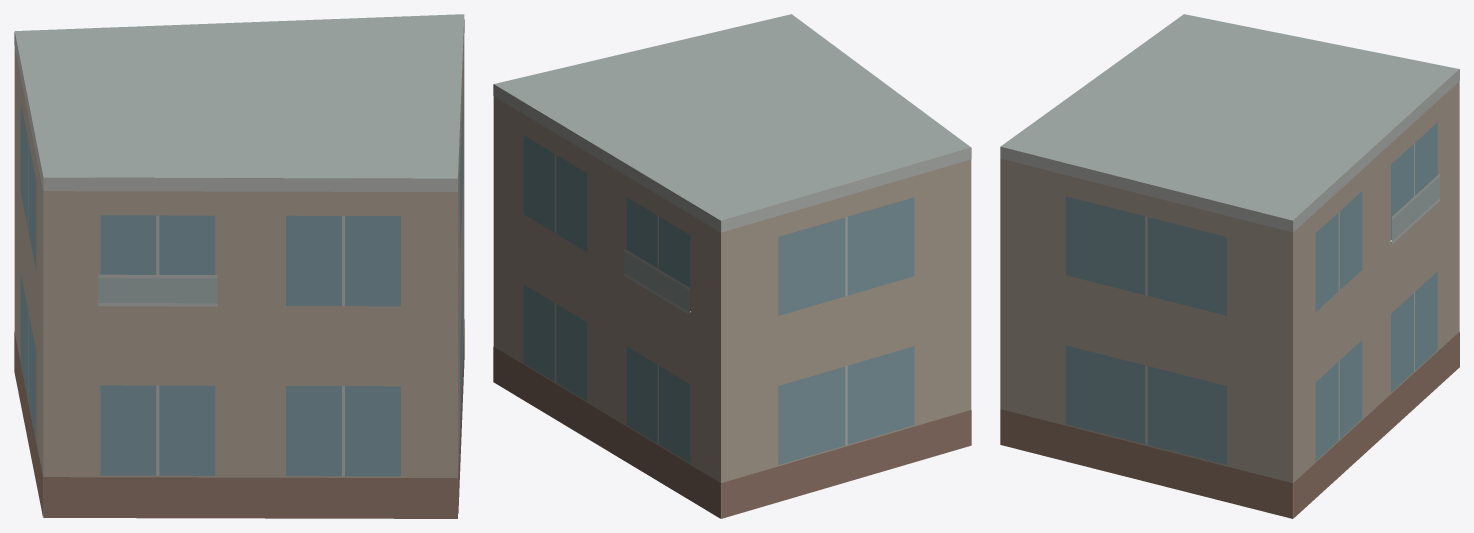
File: survey-upis-33028704.glb
The picture shows the model from 3 angles, left to right: view 1: azimuth 30°, elevation 25°; view 2: azimuth 150°, elevation 25°; view 3: azimuth 270°, elevation 25°; orthographic projection. The views are drawn at different scales.
Visible parts, largest first — view 1: survey-upis-33028704.tmp; view 2: survey-upis-33028704.tmp; view 3: survey-upis-33028704.tmp.
Boxes of the visible parts, x1=… form: survey-upis-33028704.tmp: x1=14, y1=14, x2=464, y2=518; survey-upis-33028704.tmp: x1=493, y1=14, x2=971, y2=518; survey-upis-33028704.tmp: x1=1000, y1=14, x2=1459, y2=518.
Bounding box in the file's own units: 9.07 × 6.1 × 8.52.
